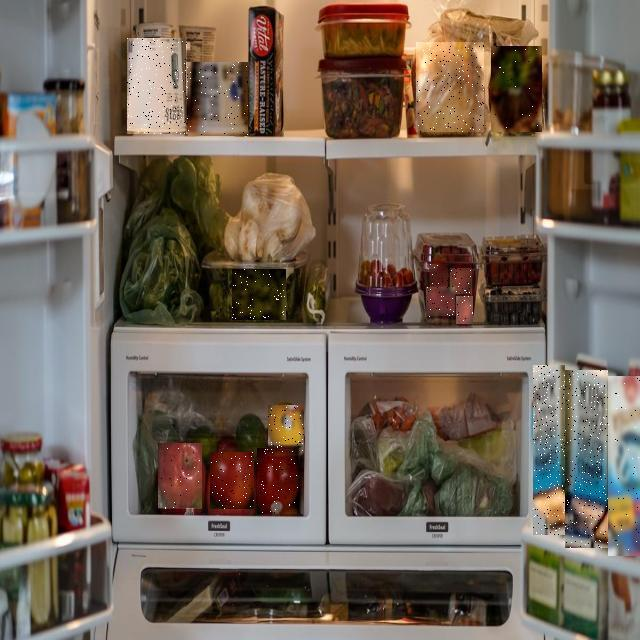Apple: (258, 448, 304, 514), (158, 444, 202, 512), (210, 452, 254, 509)
Bread: (416, 43, 484, 133), (491, 46, 542, 132)
Lemon: (268, 406, 304, 456)
Milk: (565, 370, 608, 548), (608, 376, 640, 556), (533, 365, 565, 535)
Parsley: (233, 269, 287, 320)
Straw Berry: (426, 288, 455, 318), (450, 268, 472, 294), (430, 265, 448, 293), (456, 297, 473, 325)
Yoghurt: (128, 38, 190, 134), (189, 63, 249, 137)
